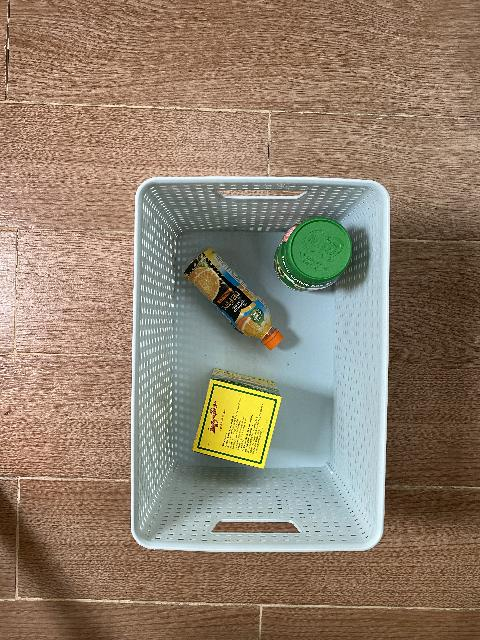cart: (131, 176, 391, 553)
luong_kho: (192, 369, 282, 469)
milo: (274, 217, 353, 292)
teppy_orange_juice: (183, 246, 284, 351)
